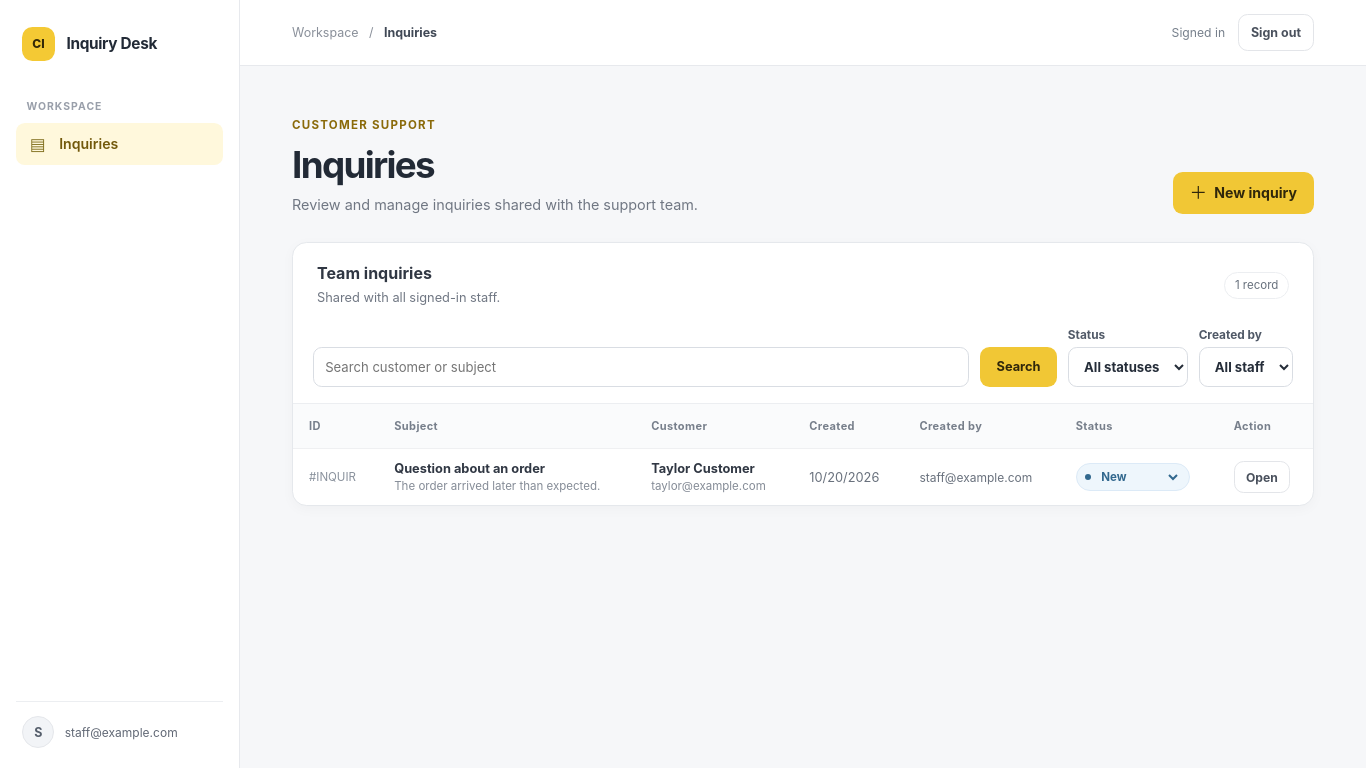
Scenario: App › submits search, status, and created-by filters as list query parameters
Expected: the text "Question about an order" is shown, [394,461,545,476]
In the search field: (641, 367) [313,346,969,387], type "delivery delay"
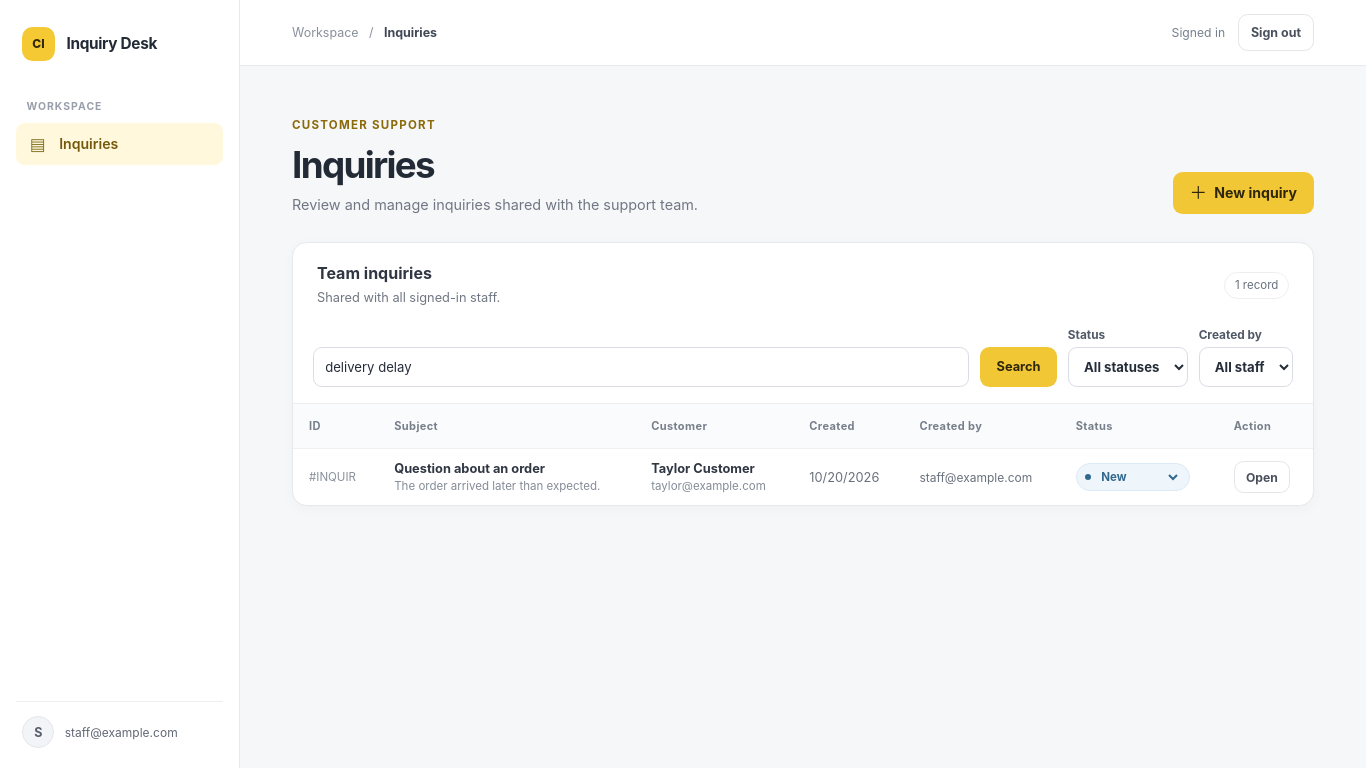
Select "In progress" in the dropdown labelled "Status": (1128, 367) [1068,346,1188,387]
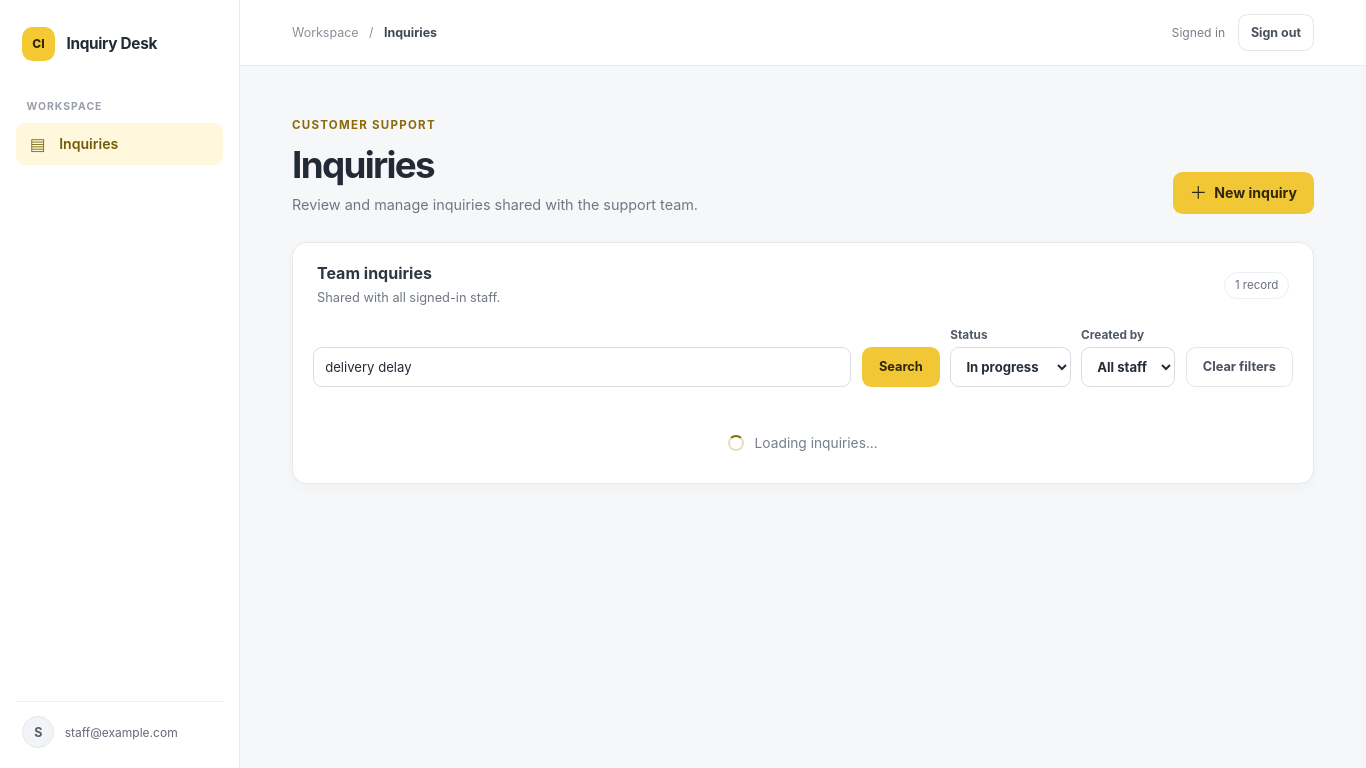
Select "Me" in the dropdown labelled "Created by": (1128, 367) [1081,346,1175,387]
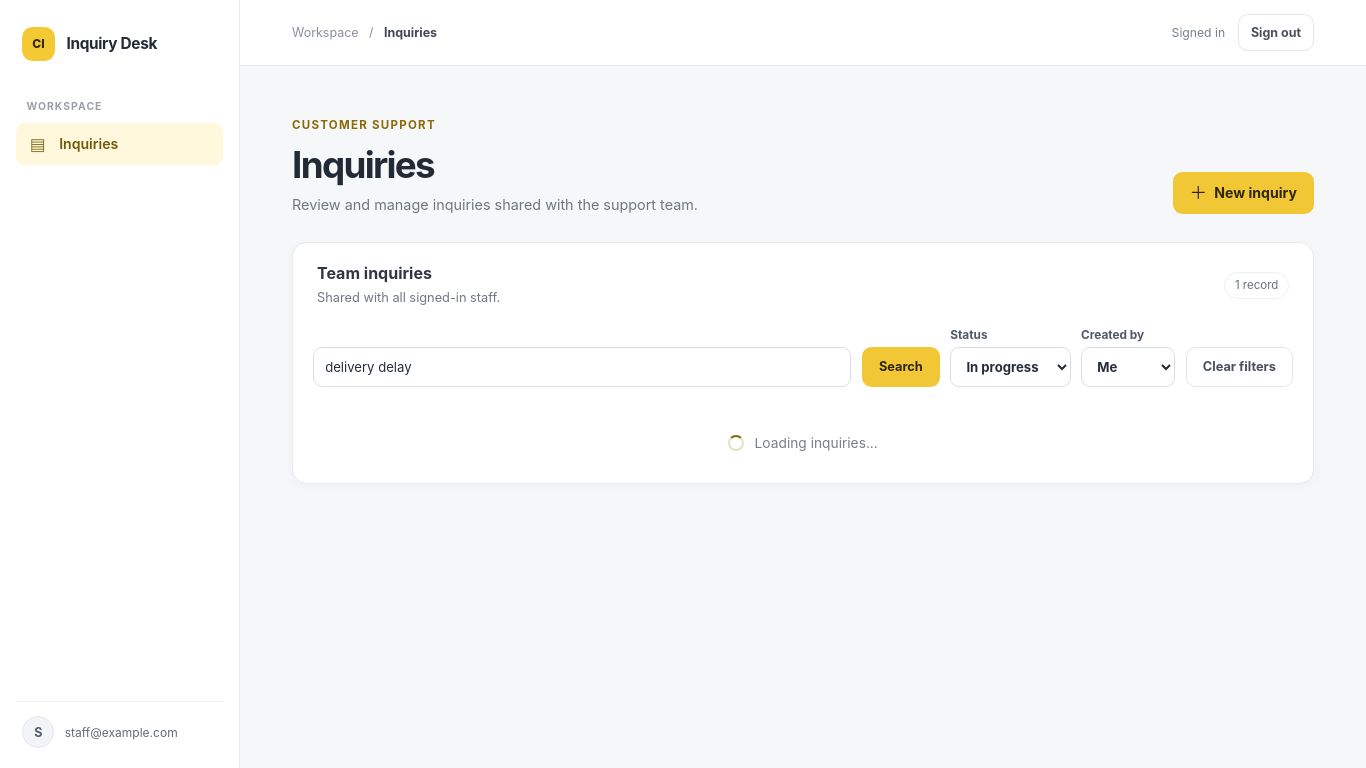
Click the button "Search": (901, 367) [862,346,940,387]
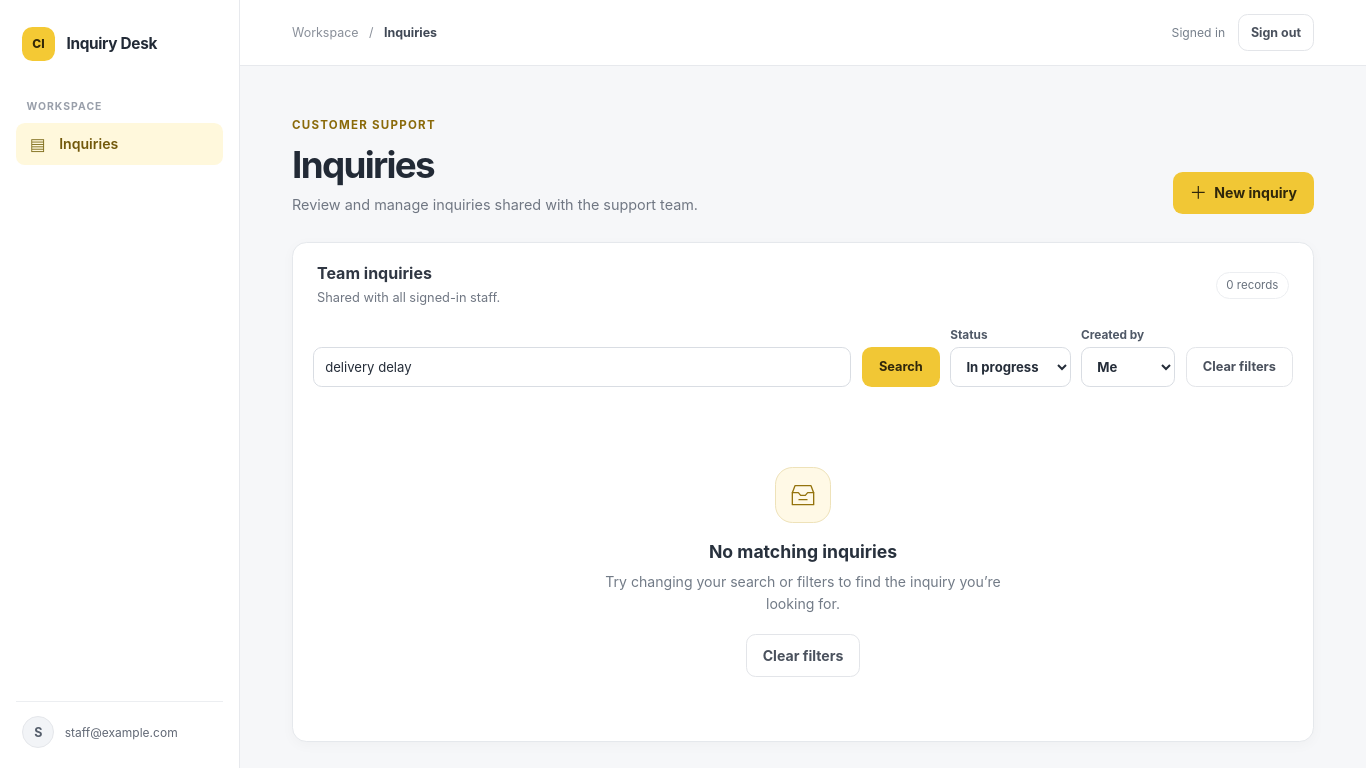
Expected: the heading "No matching inquiries" is shown, [709,541,897,562]
